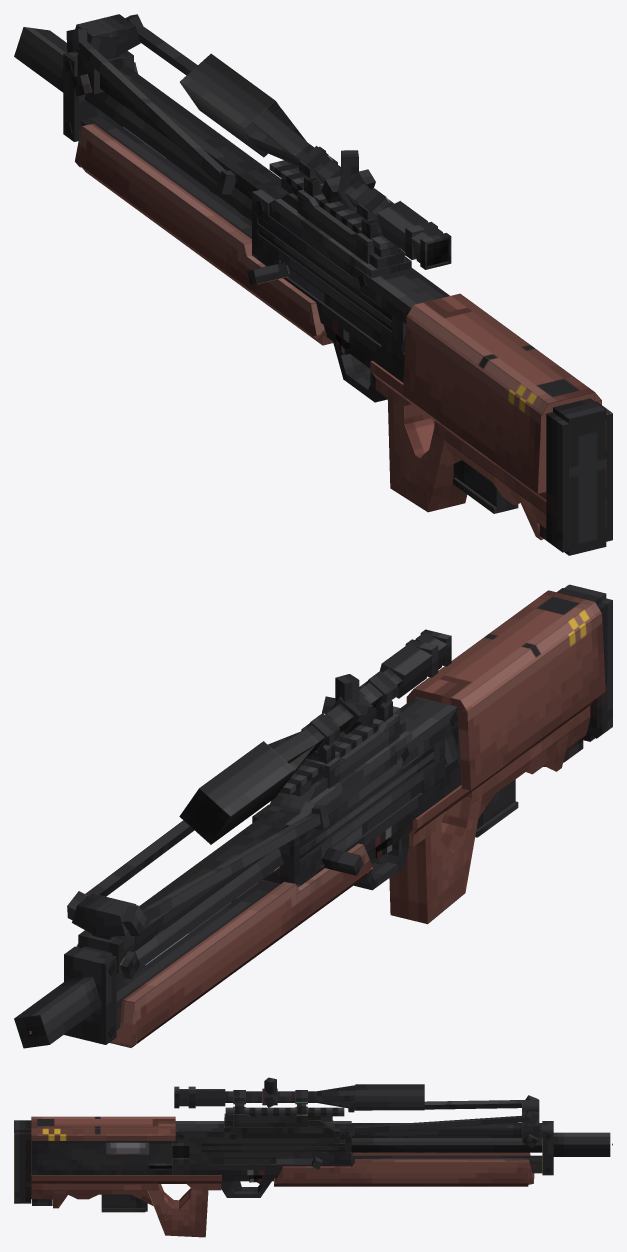
The picture shows the model from 3 angles, top to bottom: view 1: azimuth 30°, elevation 25°; view 2: azimuth 150°, elevation 25°; view 3: azimuth 270°, elevation 25°; orthographic projection. The views are drawn at different scales.
Parts seen in each view (by area): view 1: gun, intscope, bipod, rail, bolt, magazine; view 2: gun, intscope, bipod, rail, bolt, magazine; view 3: gun, intscope, bipod, rail, bolt, magazine, action.
Boxes of the visible parts, bbox=[...] form: gun: bbox=[14, 27, 612, 555]; intscope: bbox=[180, 53, 451, 269]; bipod: bbox=[66, 14, 326, 194]; rail: bbox=[269, 160, 399, 257]; bolt: bbox=[247, 261, 381, 344]; magazine: bbox=[453, 460, 518, 513]; gun: bbox=[14, 584, 612, 1048]; intscope: bbox=[179, 629, 451, 844]; bipod: bbox=[67, 805, 329, 939]; rail: bbox=[280, 706, 400, 796]; bolt: bbox=[321, 782, 421, 875]; magazine: bbox=[475, 779, 518, 837]; gun: bbox=[14, 1113, 610, 1237]; intscope: bbox=[174, 1077, 424, 1126]; bipod: bbox=[348, 1095, 539, 1136]; rail: bbox=[225, 1107, 344, 1121]; bolt: bbox=[212, 1156, 322, 1169]; magazine: bbox=[101, 1194, 147, 1212]; action: bbox=[106, 1142, 149, 1153].
Size of the model in its own units: 72.34 by 182 by 648.
